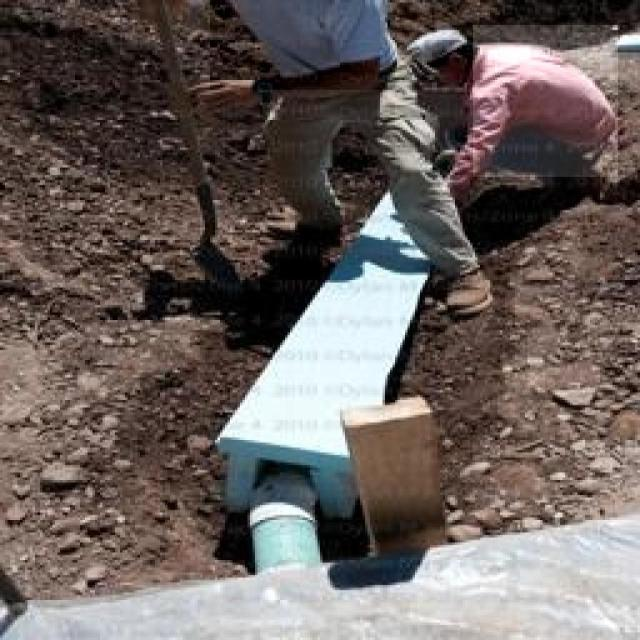Helmet: (474, 25, 618, 177), (210, 0, 412, 90), (397, 5, 482, 94)
